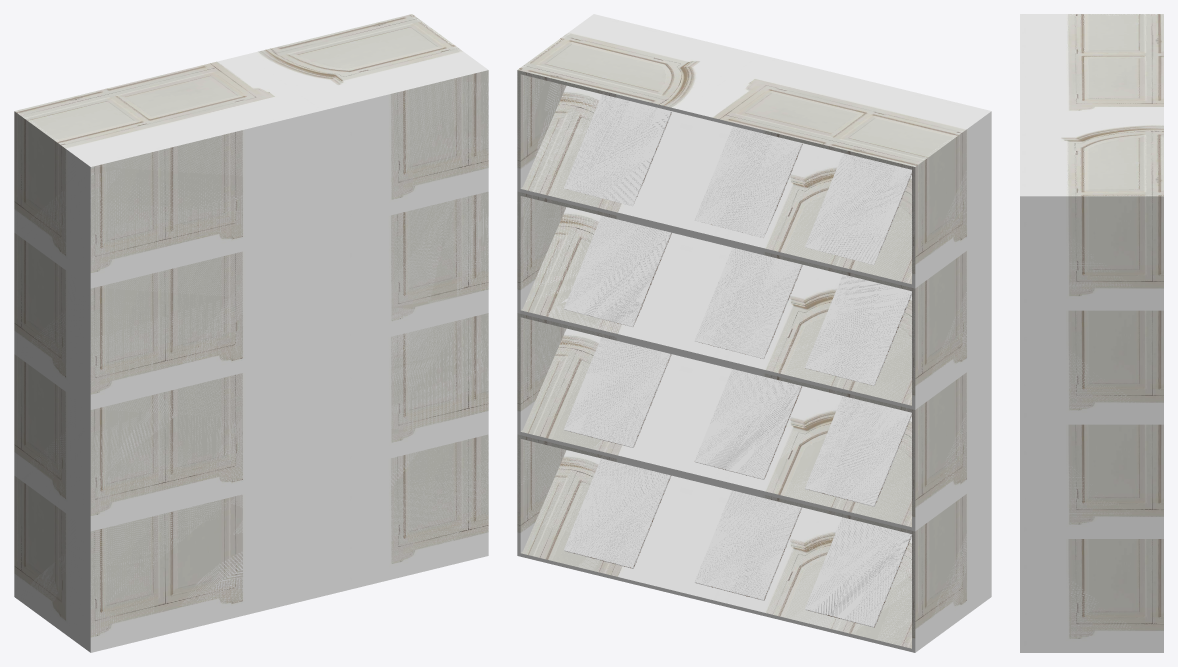
3 renders of one model, left to right at view 1: azimuth 30°, elevation 25°; view 2: azimuth 150°, elevation 25°; view 3: azimuth 270°, elevation 25°, orthographic. The views are drawn at different scales.
Parts seen in each view (by area): view 1: mesh1_mesh1-geometry; view 2: mesh1_mesh1-geometry, mesh2_mesh2-geometry; view 3: mesh1_mesh1-geometry.
Part boxes in pixels (x1,y1,x2,y2): mesh1_mesh1-geometry: [14, 14, 488, 652]; mesh1_mesh1-geometry: [517, 14, 991, 652]; mesh2_mesh2-geometry: [563, 94, 911, 627]; mesh1_mesh1-geometry: [1020, 14, 1163, 652].
Bounding box in the file's own units: 0.636 × 0.742 × 0.212.
